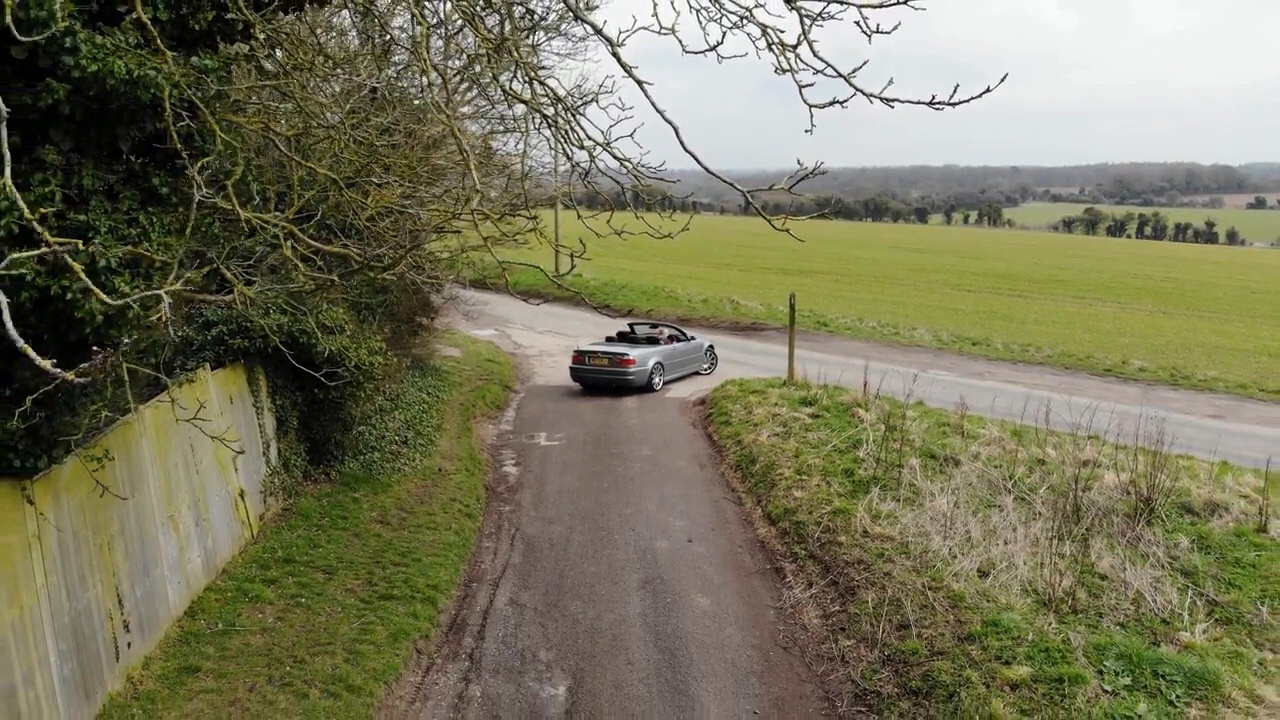araba: (567, 320, 718, 393)
